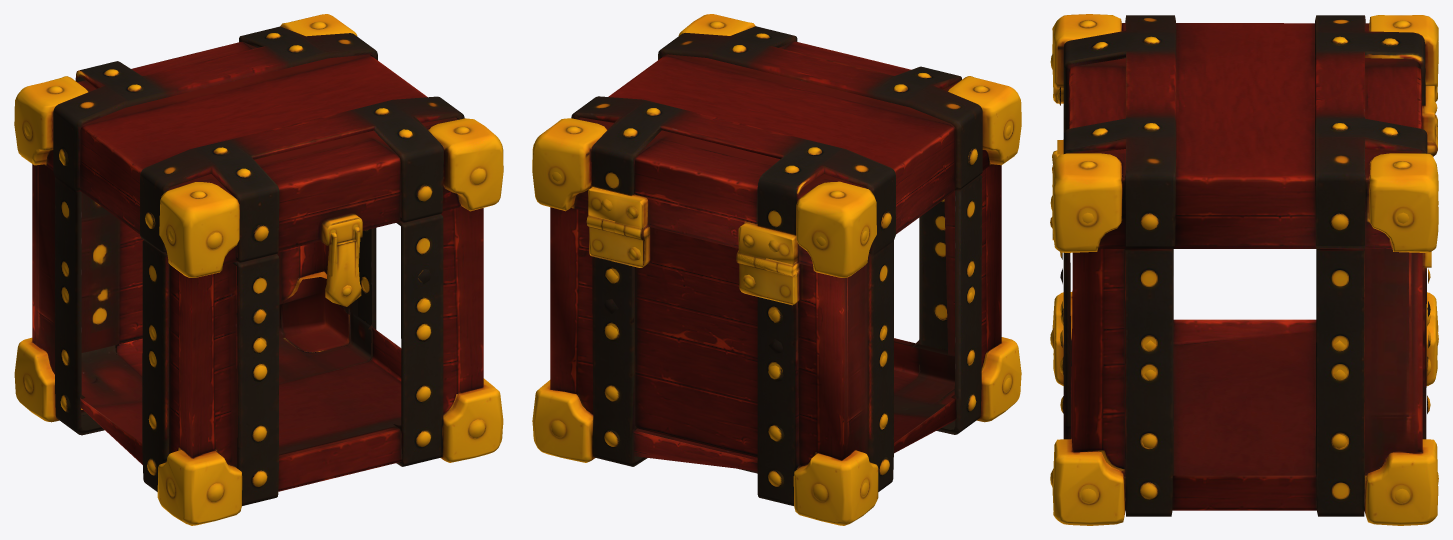
Rendered from pirate_chest.glb.
3 views of the same model, side by side, from view 1: azimuth 30°, elevation 25°; view 2: azimuth 150°, elevation 25°; view 3: azimuth 270°, elevation 25° (orthographic). The views are drawn at different scales.
Visible parts, largest first — view 1: tripo_node_642bf963-f633-4ac9-b4ea-b1451e1d8034; view 2: tripo_node_642bf963-f633-4ac9-b4ea-b1451e1d8034; view 3: tripo_node_642bf963-f633-4ac9-b4ea-b1451e1d8034.
Part boxes in pixels (box(x1,y1,x2,y2)): tripo_node_642bf963-f633-4ac9-b4ea-b1451e1d8034: box(14, 14, 503, 525); tripo_node_642bf963-f633-4ac9-b4ea-b1451e1d8034: box(532, 14, 1021, 525); tripo_node_642bf963-f633-4ac9-b4ea-b1451e1d8034: box(1050, 14, 1438, 525).
Bounding box in the file's own units: 0.9995 × 0.9897 × 0.9585.
1 material, 1 textured.
